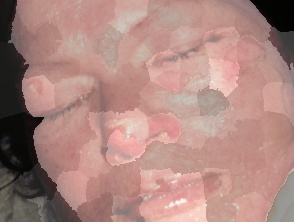SJS-TEN: (105, 168, 232, 222), (95, 105, 183, 166), (205, 29, 273, 96), (147, 48, 203, 104), (21, 71, 50, 102)
